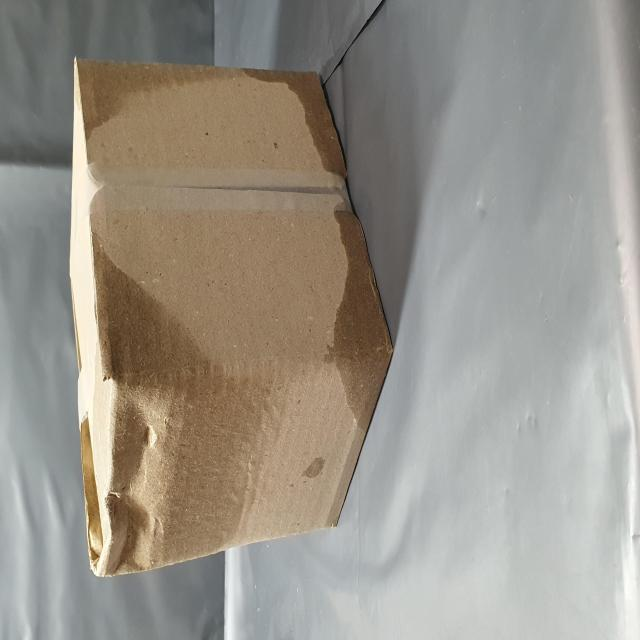wet: (37, 180, 221, 485), (277, 124, 330, 314), (266, 449, 327, 605), (94, 581, 241, 640)
